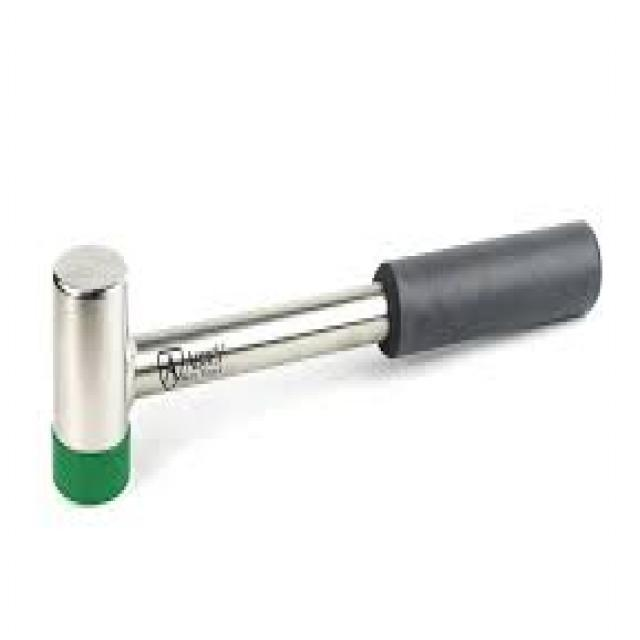hammer: (39, 200, 608, 510)
